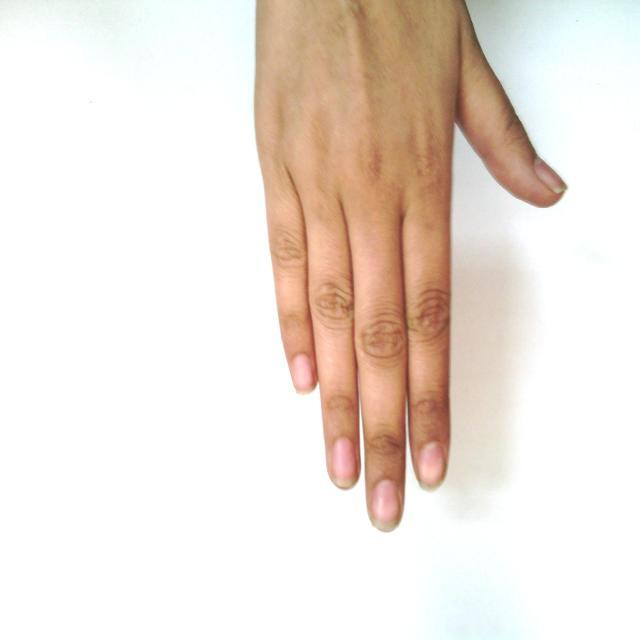Fingernail: (373, 481, 399, 531), (332, 439, 357, 487), (418, 443, 444, 489), (536, 160, 567, 193), (292, 355, 314, 393)
